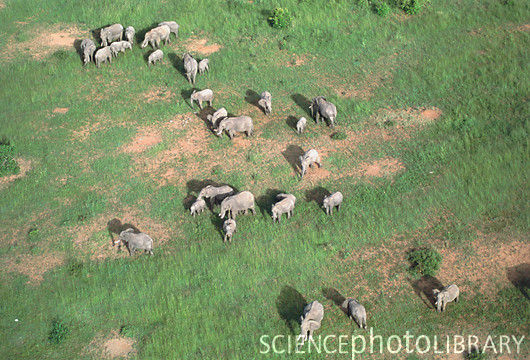sheep: (116, 228, 156, 257), (298, 299, 326, 339), (219, 190, 259, 217), (195, 184, 235, 209), (312, 95, 338, 131), (341, 297, 370, 328), (432, 283, 462, 310), (217, 116, 255, 137), (270, 193, 298, 221), (297, 150, 324, 177), (140, 26, 172, 47), (180, 50, 198, 84), (320, 191, 344, 216), (99, 25, 125, 44), (190, 89, 214, 109), (78, 39, 94, 66), (223, 218, 238, 245), (258, 90, 273, 116), (189, 198, 208, 217), (94, 47, 113, 66), (123, 23, 137, 45), (147, 47, 165, 64), (293, 116, 309, 132)
